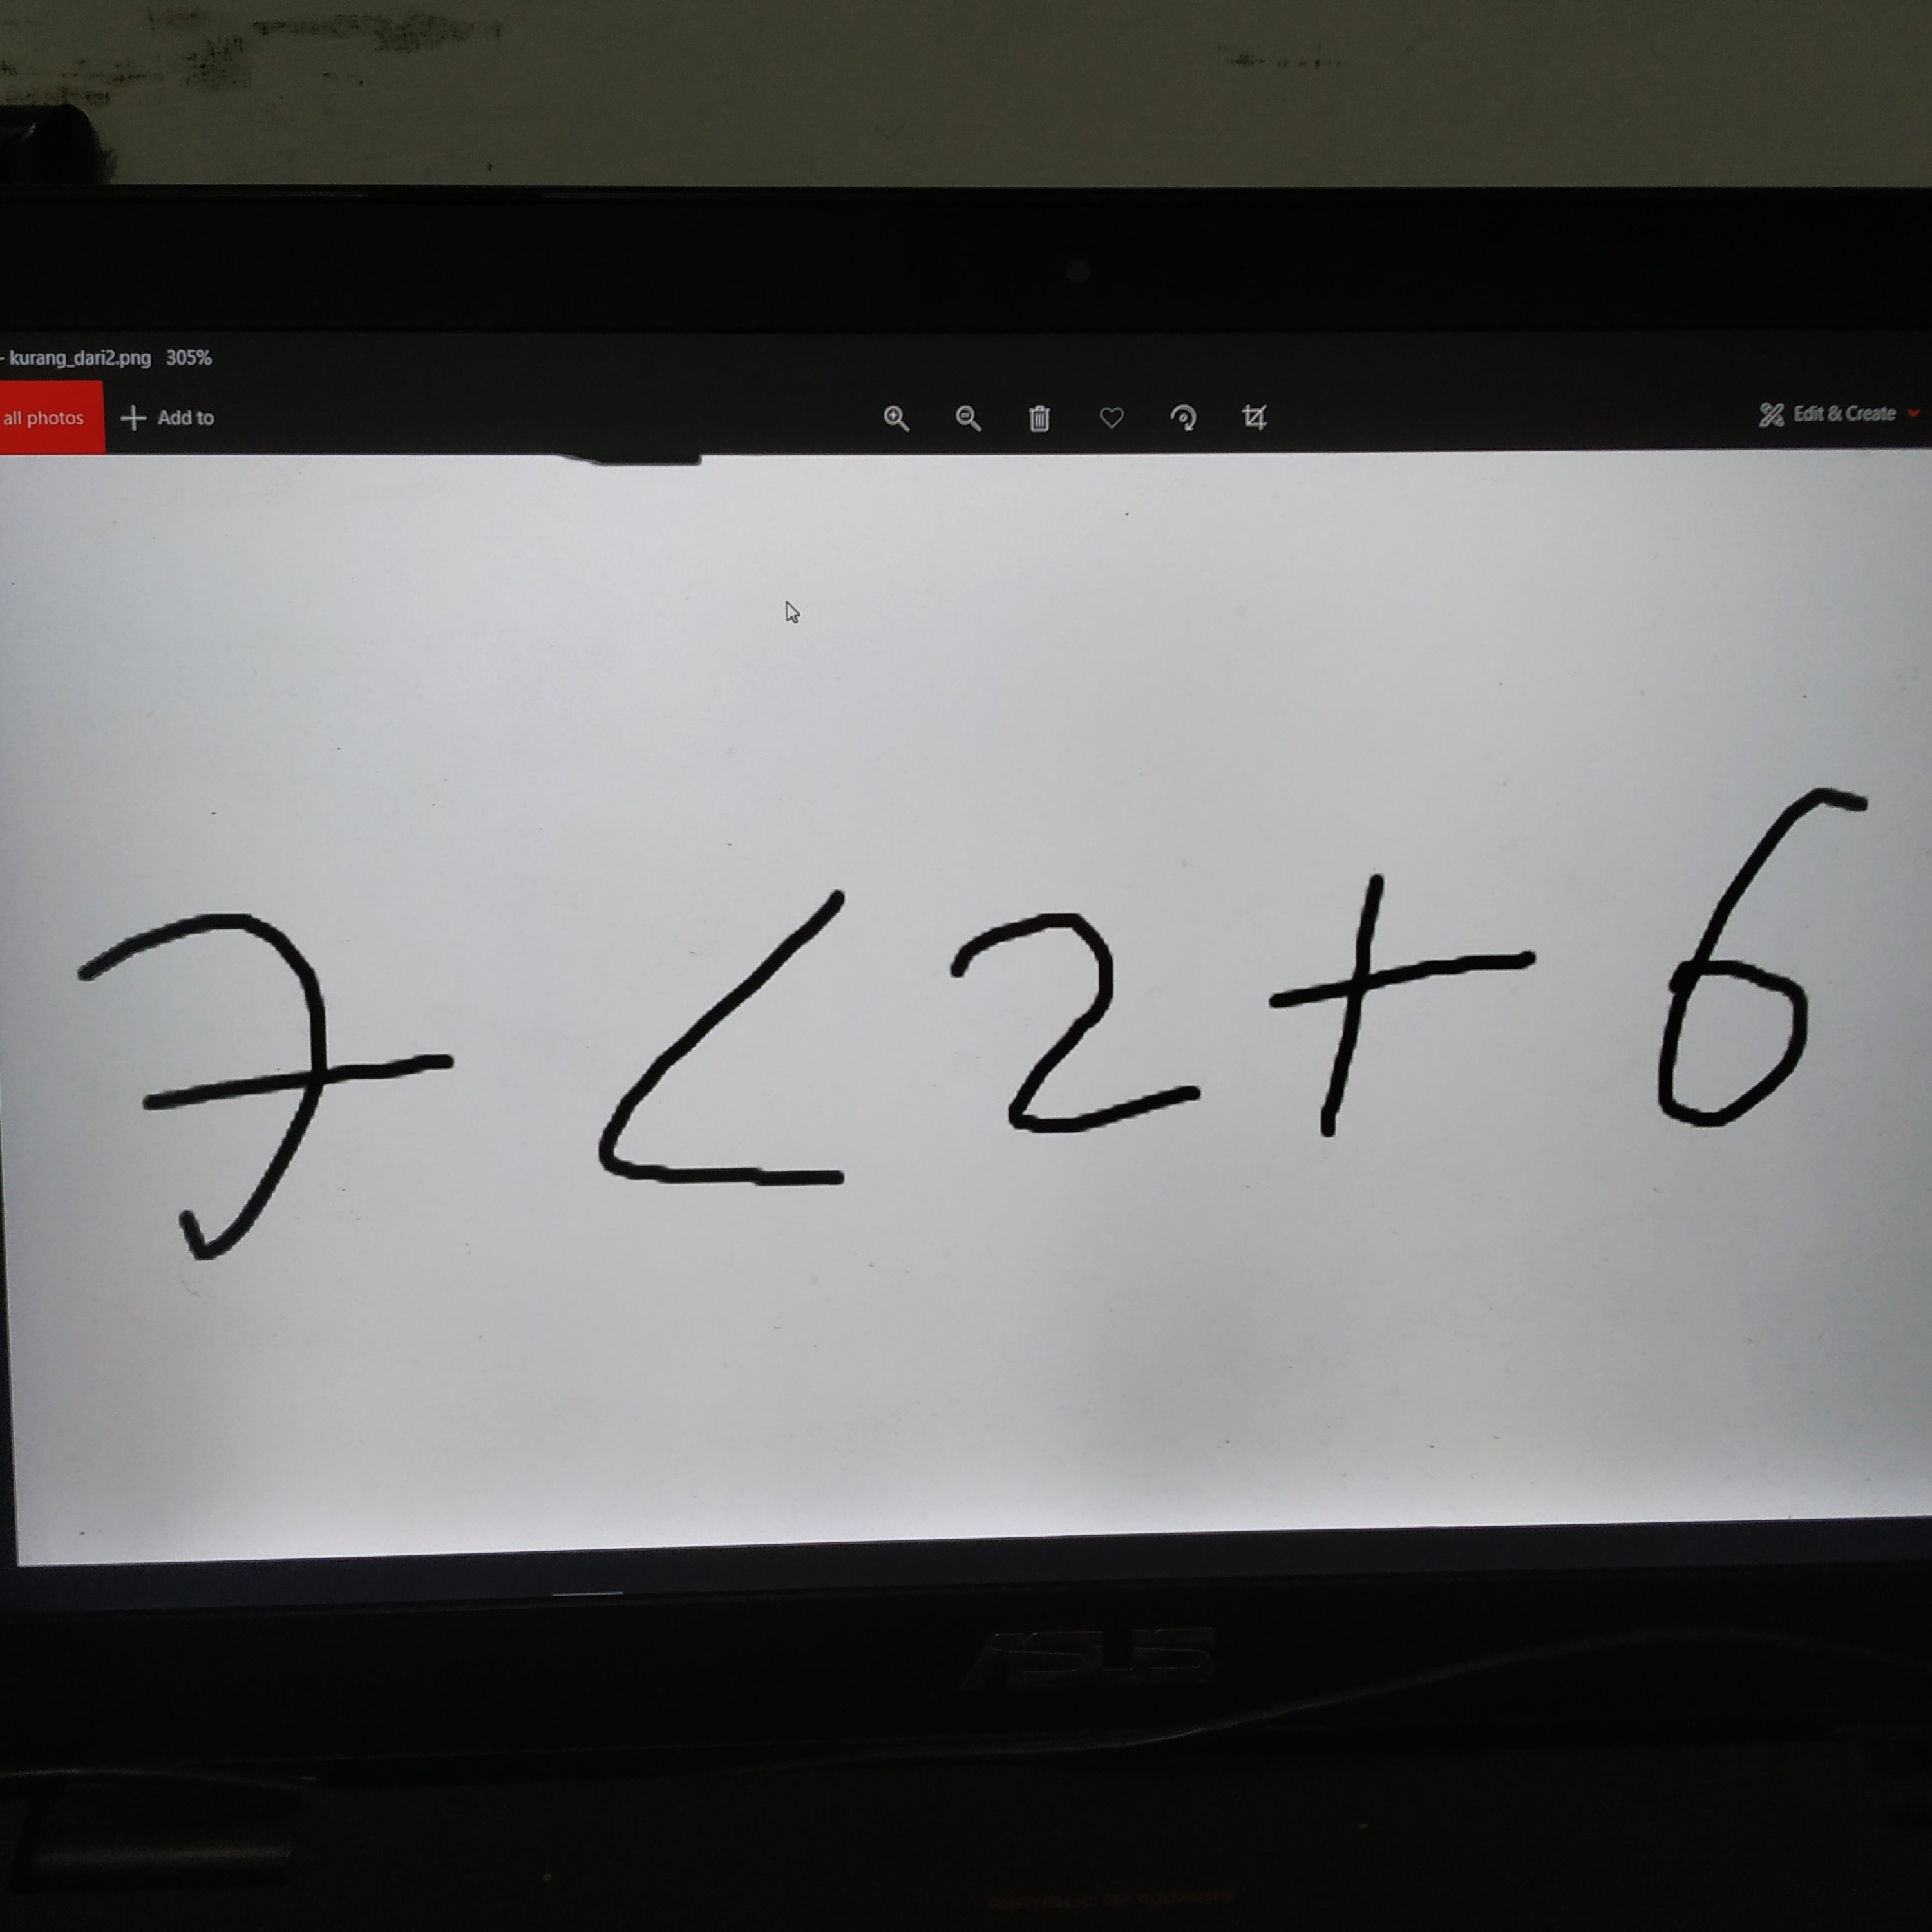lessthan: (578, 872, 873, 1223)
num2: (918, 897, 1244, 1149)
num6: (1634, 749, 1884, 1170)
num7: (38, 893, 495, 1272)
sum: (1244, 860, 1544, 1147)
